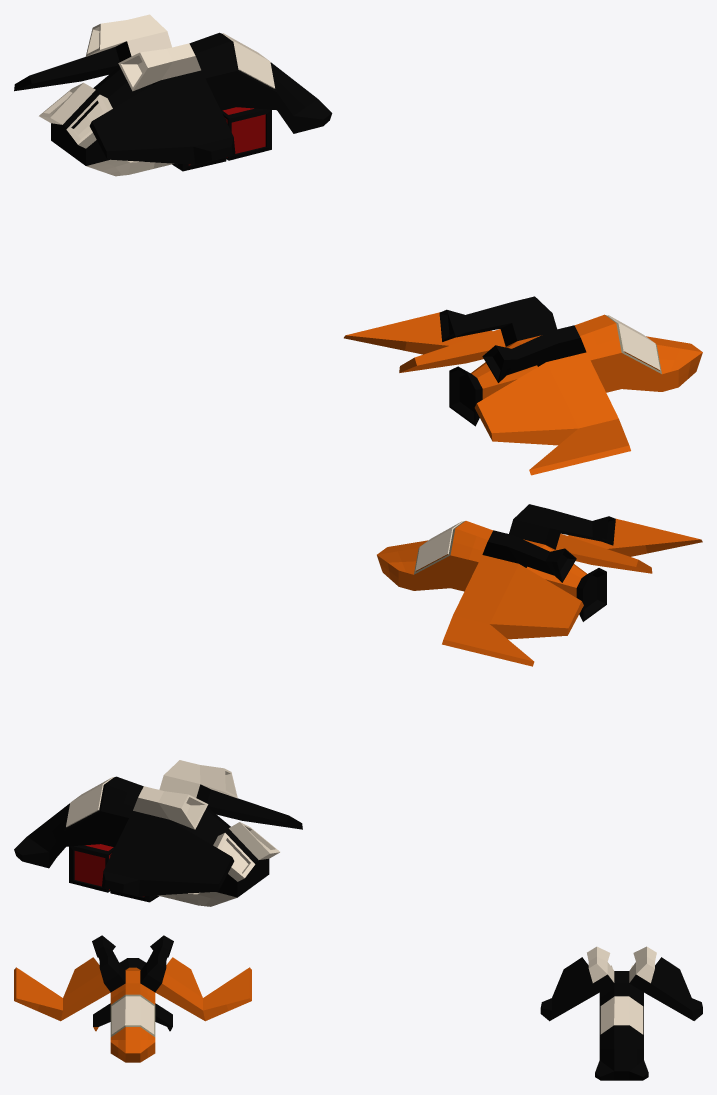
Rendered from 3ships.fbx.
3 renders of one model, top to bottom at view 1: azimuth 30°, elevation 25°; view 2: azimuth 150°, elevation 25°; view 3: azimuth 270°, elevation 25°, orthographic. The views are drawn at different scales.
Parts seen in each view (by area): view 1: Cube.002, Cube; view 2: Cube.002, Cube; view 3: Cube, Cube.002.
Boxes of the visible parts, x1,y1,x2,y2 form: Cube.002: (14,14,332,176); Cube: (344,296,702,475); Cube.002: (14,760,302,906); Cube: (377,504,702,666); Cube: (14,935,251,1062); Cube.002: (540,946,702,1080).
Size of the model in its own units: 8.69 by 4.27 by 31.01.
